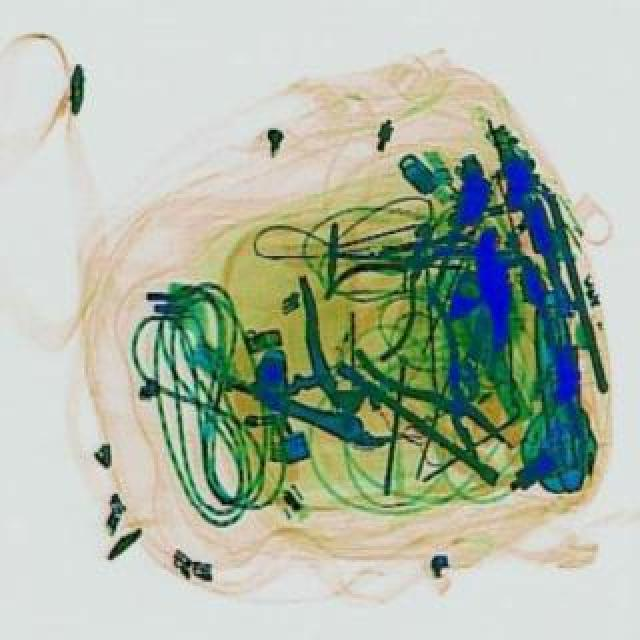wrench: (202, 268, 432, 484), (346, 284, 546, 480), (314, 198, 488, 362)
